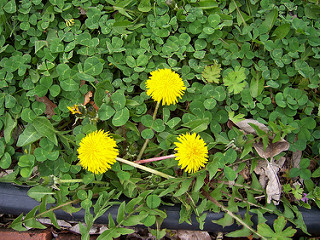clover: (96, 90, 130, 127), (33, 136, 60, 163), (200, 82, 226, 110), (201, 13, 233, 35), (139, 114, 165, 140), (76, 56, 103, 81), (33, 75, 61, 98), (166, 32, 192, 54), (125, 54, 149, 73), (260, 68, 280, 89), (272, 46, 292, 67)
dandelion yellow: (76, 128, 119, 175), (144, 67, 186, 107), (173, 131, 209, 173)
